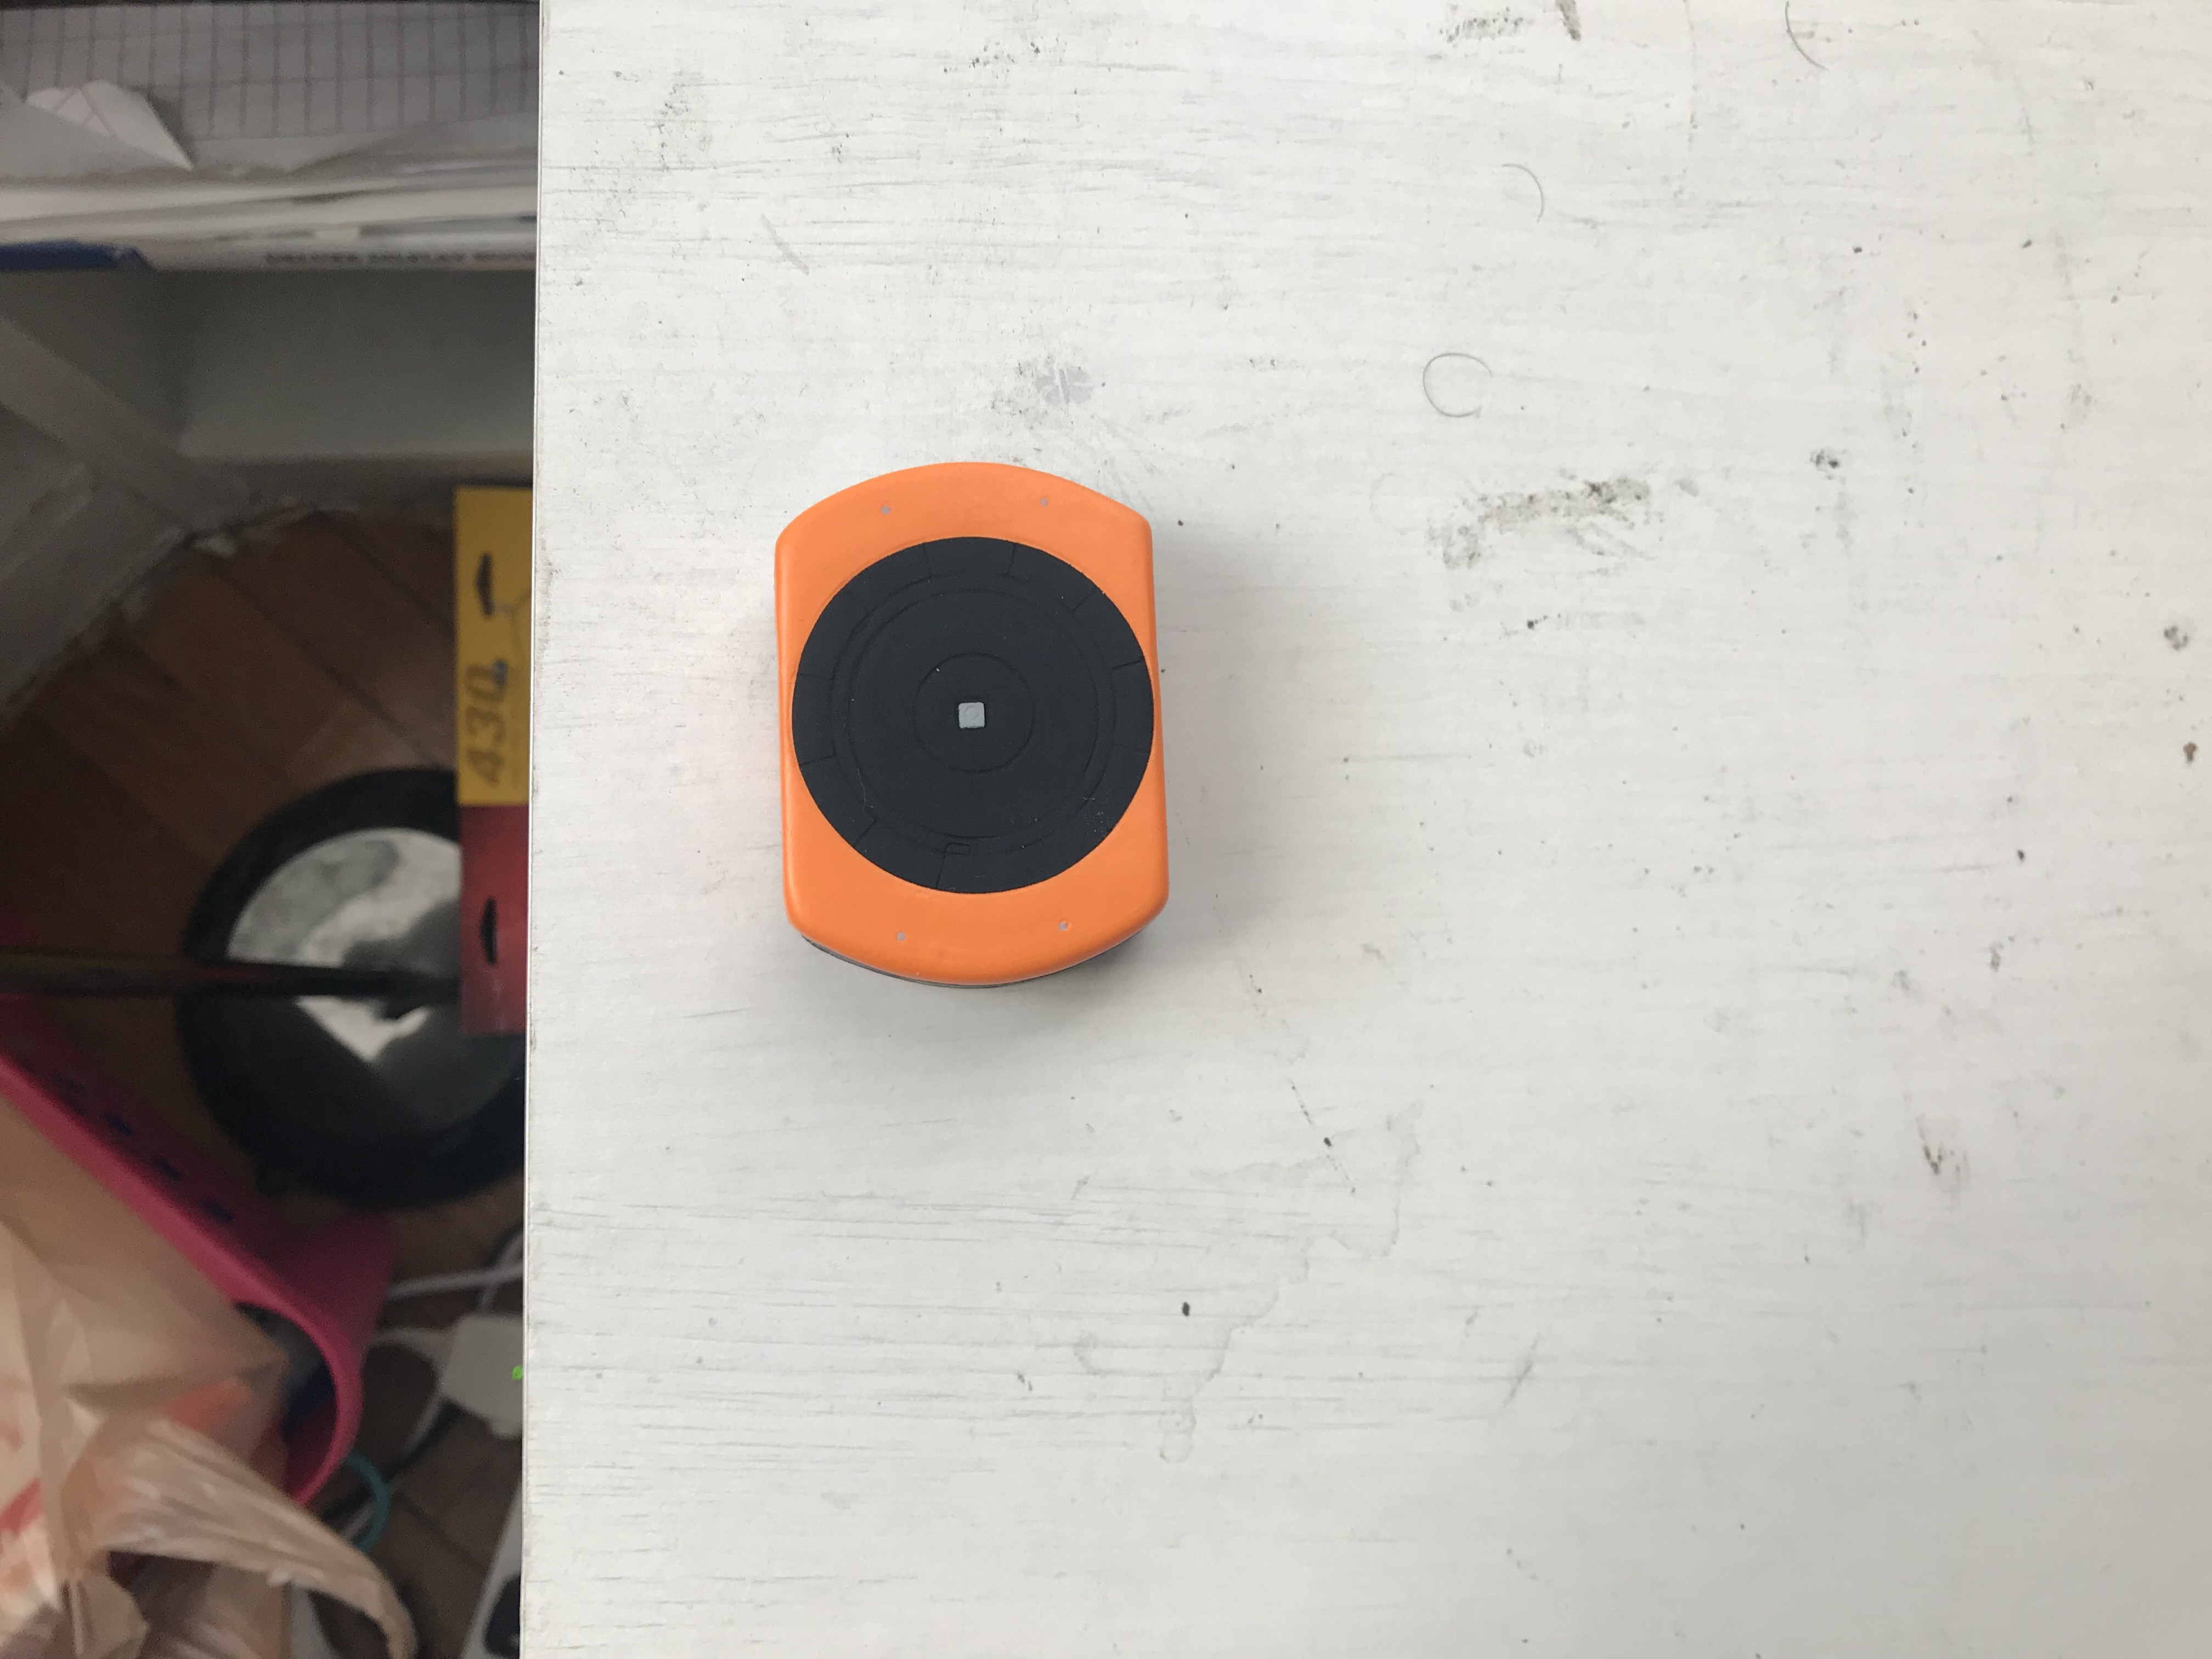amazon_bot: (714, 448, 1202, 992)
